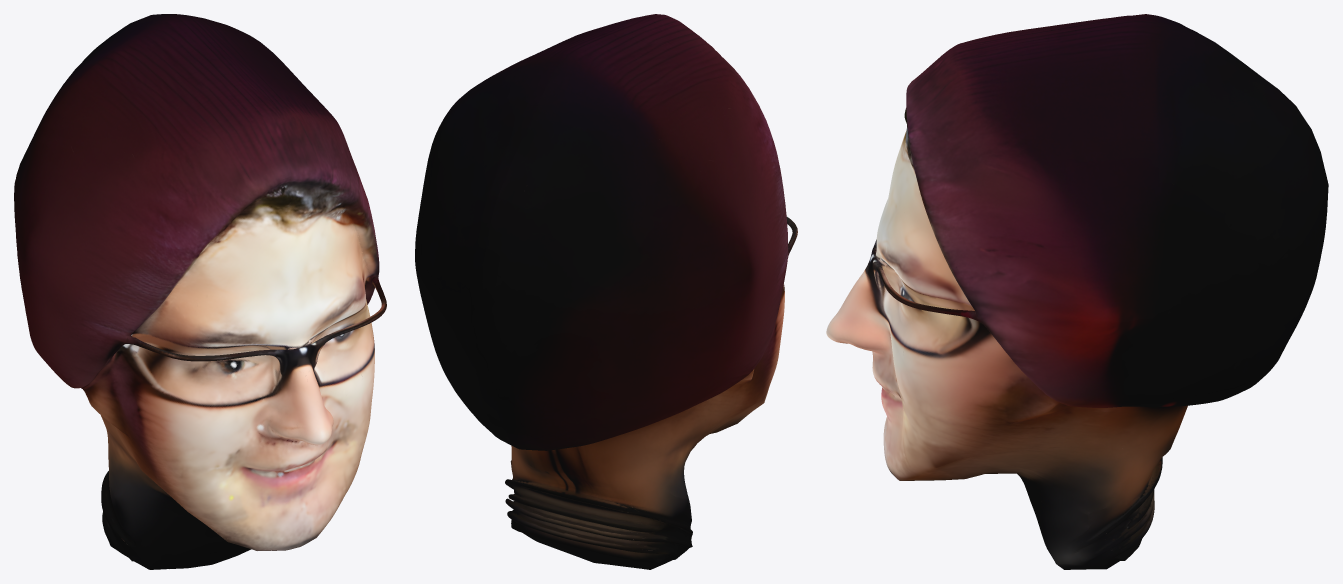
Rendered from head.glb.
3 renders of one model, left to right at view 1: azimuth 30°, elevation 25°; view 2: azimuth 150°, elevation 25°; view 3: azimuth 270°, elevation 25°, orthographic. The views are drawn at different scales.
Visible parts, largest first — view 1: model; view 2: model; view 3: model.
Part boxes in pixels (x1=…): model: x1=14, y1=14, x2=386, y2=569; model: x1=415, y1=14, x2=797, y2=569; model: x1=826, y1=14, x2=1328, y2=569.
Size of the model in its own units: 1.24 by 1.9 by 1.63.
Materials: 1 (1 with a texture image).
